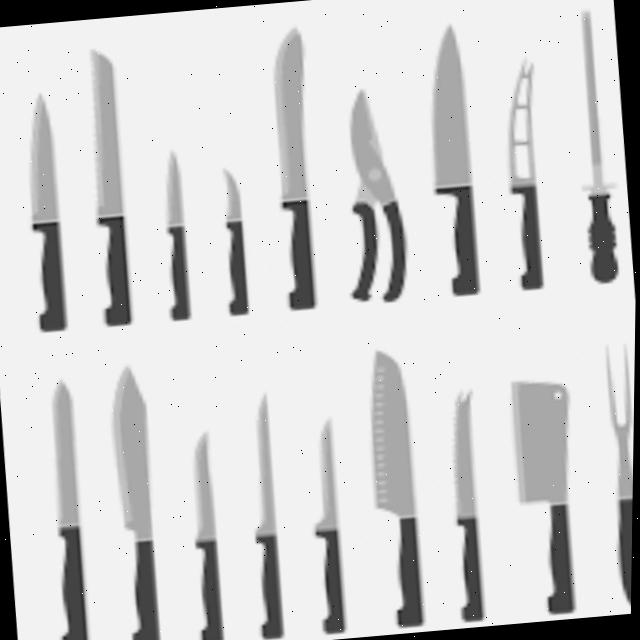Knife: (506, 374, 586, 613), (361, 346, 427, 625), (418, 24, 483, 294), (263, 25, 324, 308), (78, 44, 135, 323), (565, 5, 622, 282), (339, 84, 411, 302), (108, 366, 165, 640), (39, 379, 93, 640), (17, 90, 71, 330), (497, 56, 549, 287), (241, 392, 288, 636), (443, 388, 490, 618), (333, 85, 383, 298), (303, 416, 349, 631), (600, 342, 636, 605), (183, 429, 227, 640), (156, 147, 194, 317), (215, 164, 251, 312)
